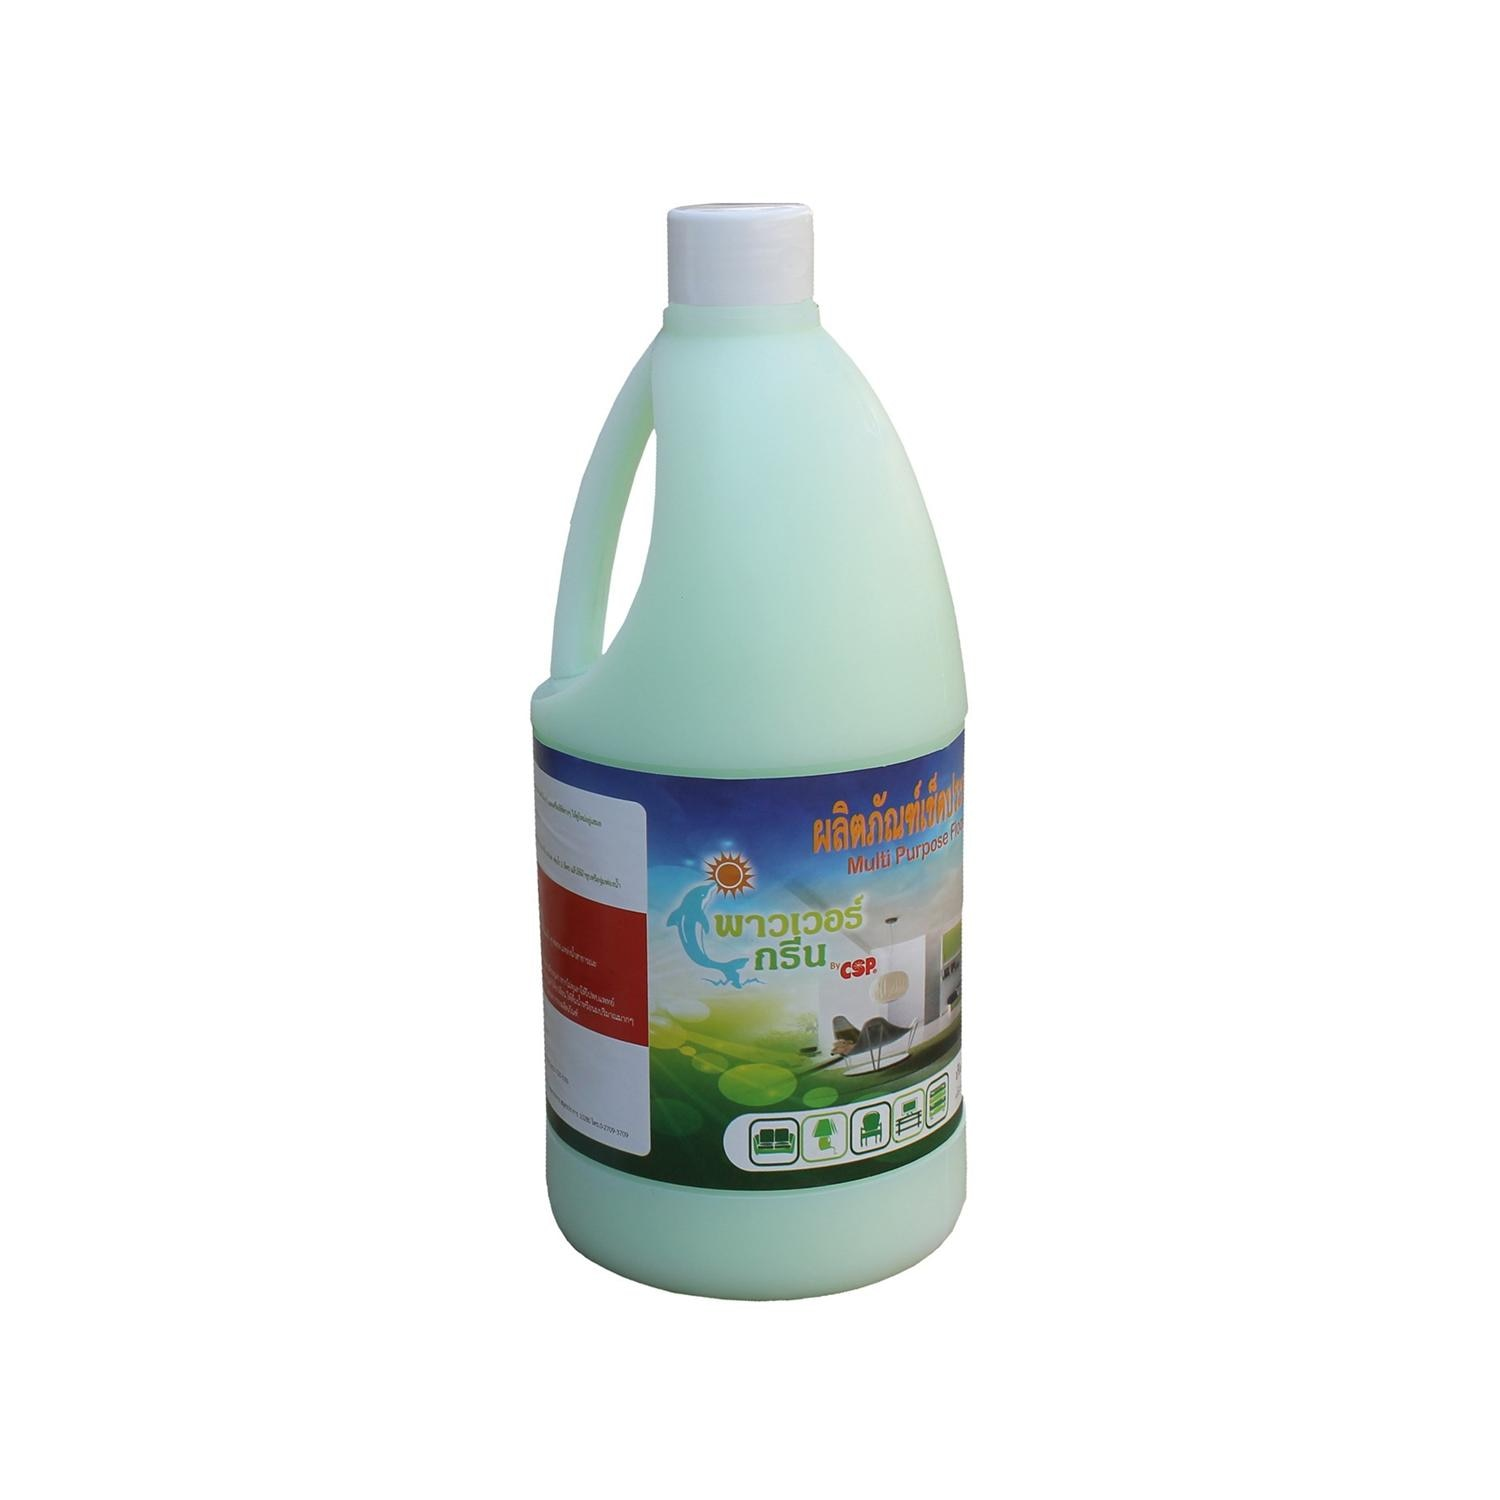Cleaning_solution: (510, 194, 990, 1316)
